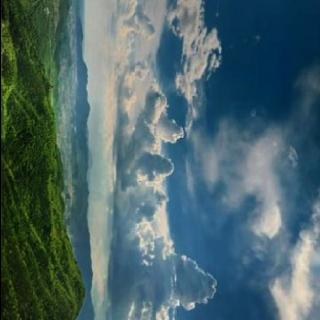Stratus: (91, 0, 320, 320)
